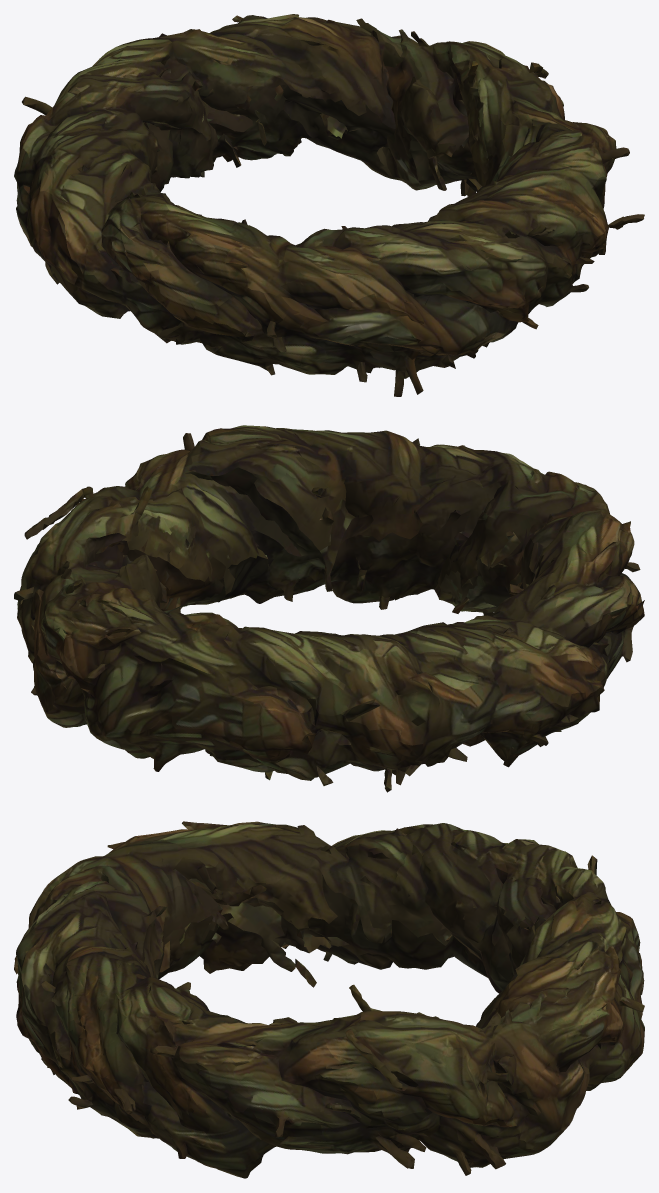
The model's file is item_rope.glb.
3 renders of one model, top to bottom at view 1: azimuth 30°, elevation 25°; view 2: azimuth 150°, elevation 25°; view 3: azimuth 270°, elevation 25°, orthographic. The views are drawn at different scales.
Parts seen in each view (by area): view 1: item_rope; view 2: item_rope; view 3: item_rope.
Boxes of the visible parts, x1,y1,x2,y2 form: item_rope: (14, 14, 644, 396); item_rope: (14, 425, 644, 792); item_rope: (14, 821, 644, 1178).
Size of the model in its own units: 0.1989 by 0.0682 by 0.2.
Materials: 1 (1 with a texture image).
